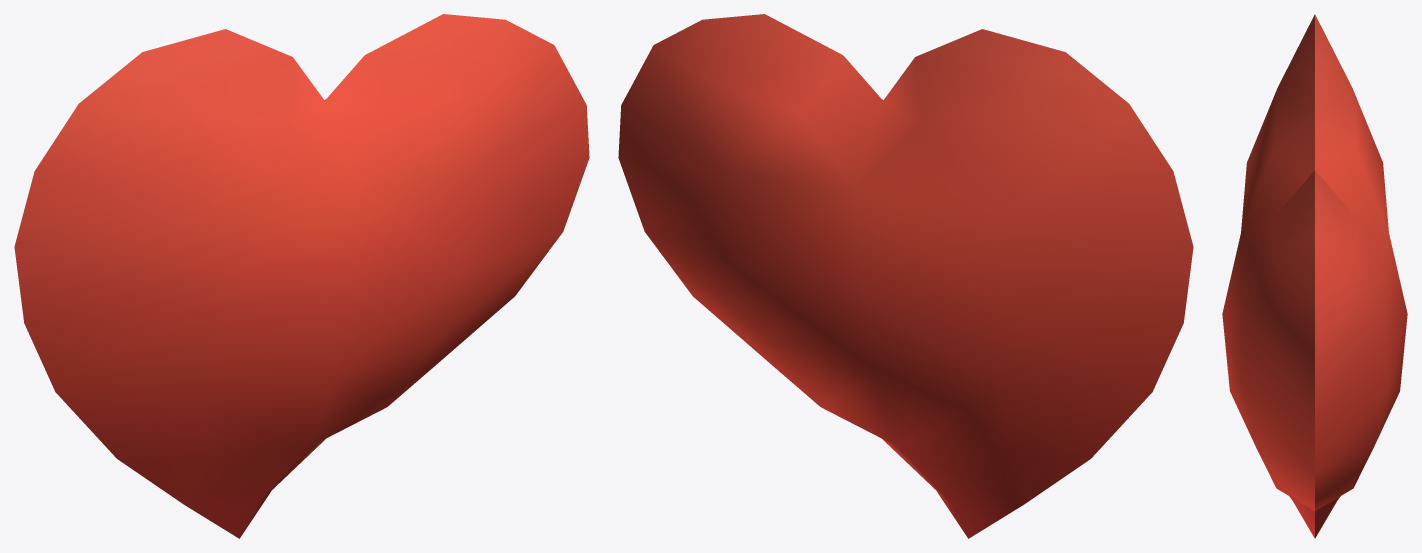
The model's file is heart.glb.
3 renders of one model, left to right at view 1: azimuth 30°, elevation 25°; view 2: azimuth 150°, elevation 25°; view 3: azimuth 270°, elevation 25°, orthographic. The views are drawn at different scales.
Visible parts, largest first — view 1: default; view 2: default; view 3: default.
Boxes of the visible parts, x1,y1,x2,y2 form: default: (14,14,589,538); default: (618,14,1193,538); default: (1222,14,1407,538).
Bounding box in the file's own units: 16.95 × 14.46 × 5.03.
1 material, 1 textured.
